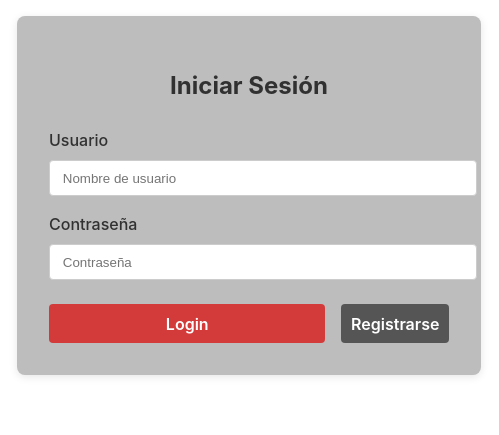
Test case: LoginForm › muestra mensaje de error cuando falla el login
The image size is (499, 435).
In the field labelled "Usuario": (263, 178) [49,160,477,196], type "x"
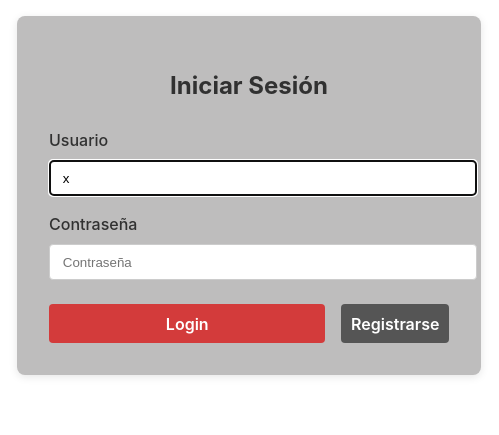
In the password field labelled "Contraseña": (263, 262) [49,244,477,280], type "y"
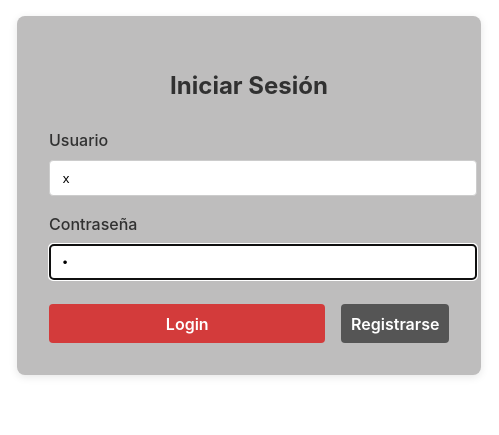
Click the button "Login": (187, 324) [49,304,326,344]
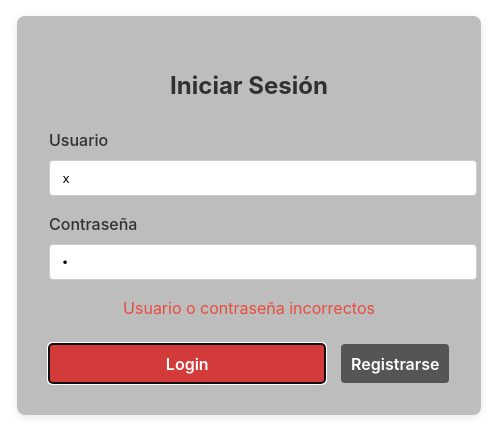
Expected: the text "Usuario o contraseña incorrectos" is shown, [123,298,375,318]
